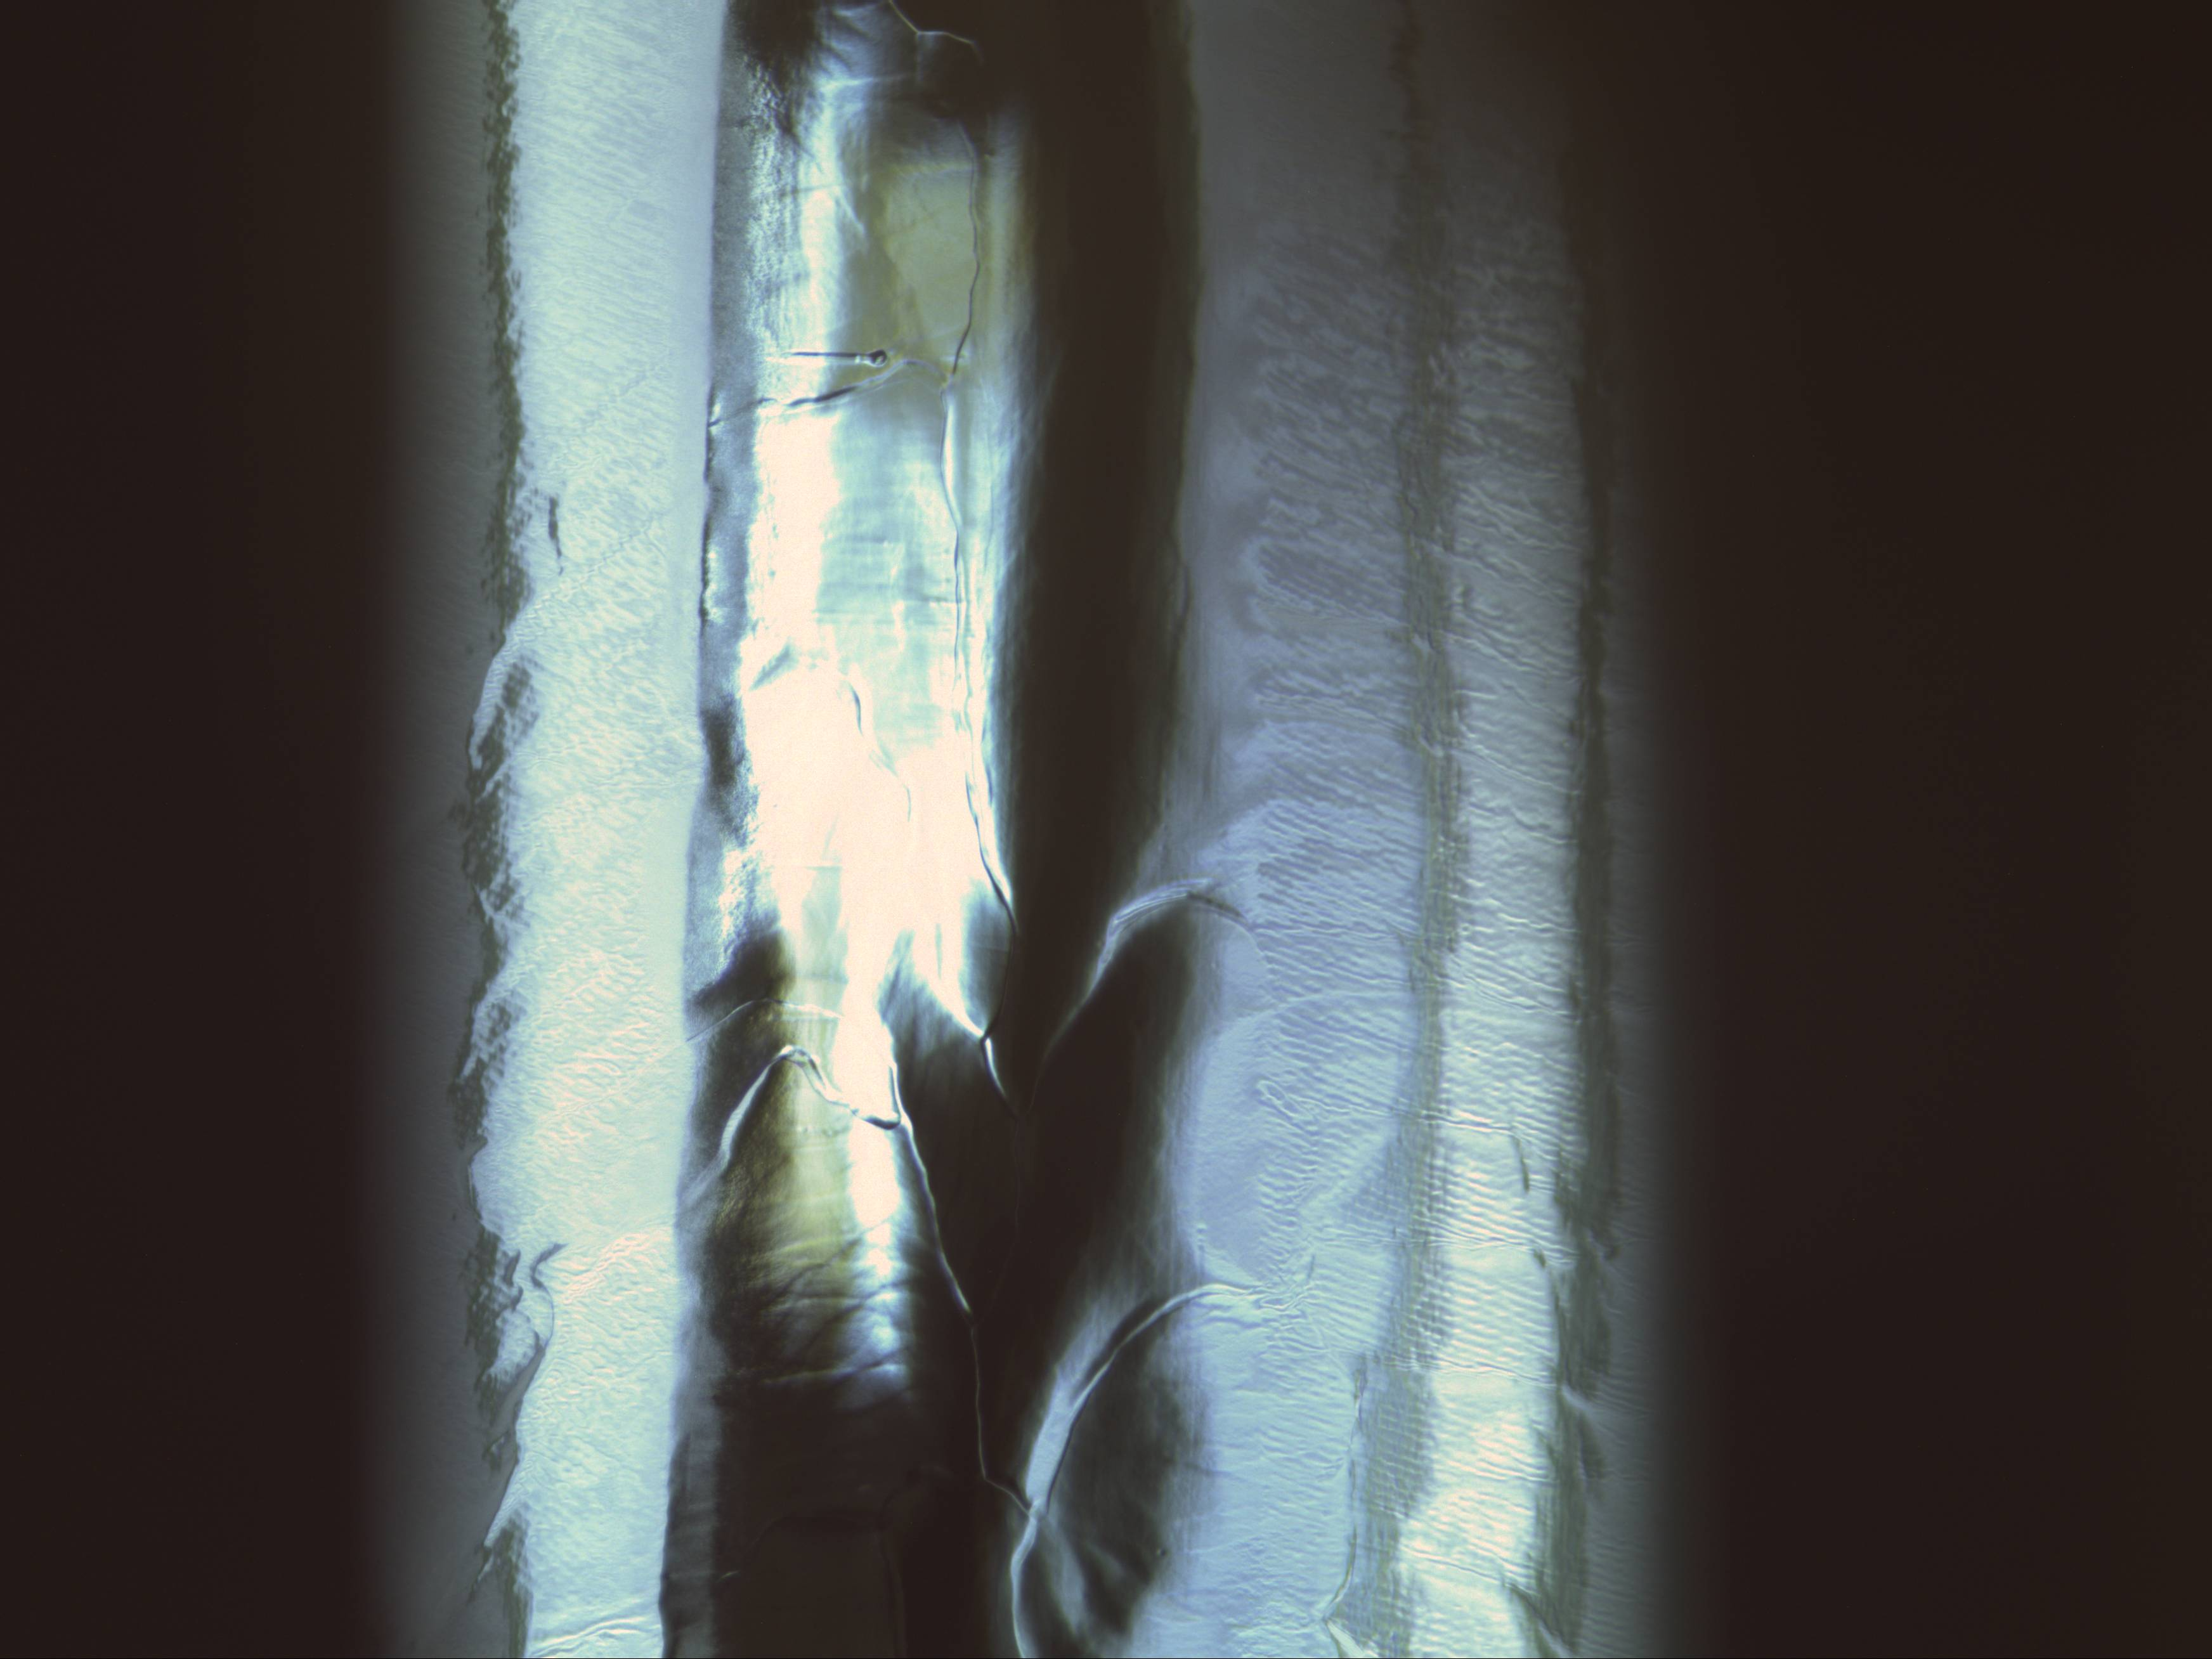defect: (857, 335, 907, 373)
